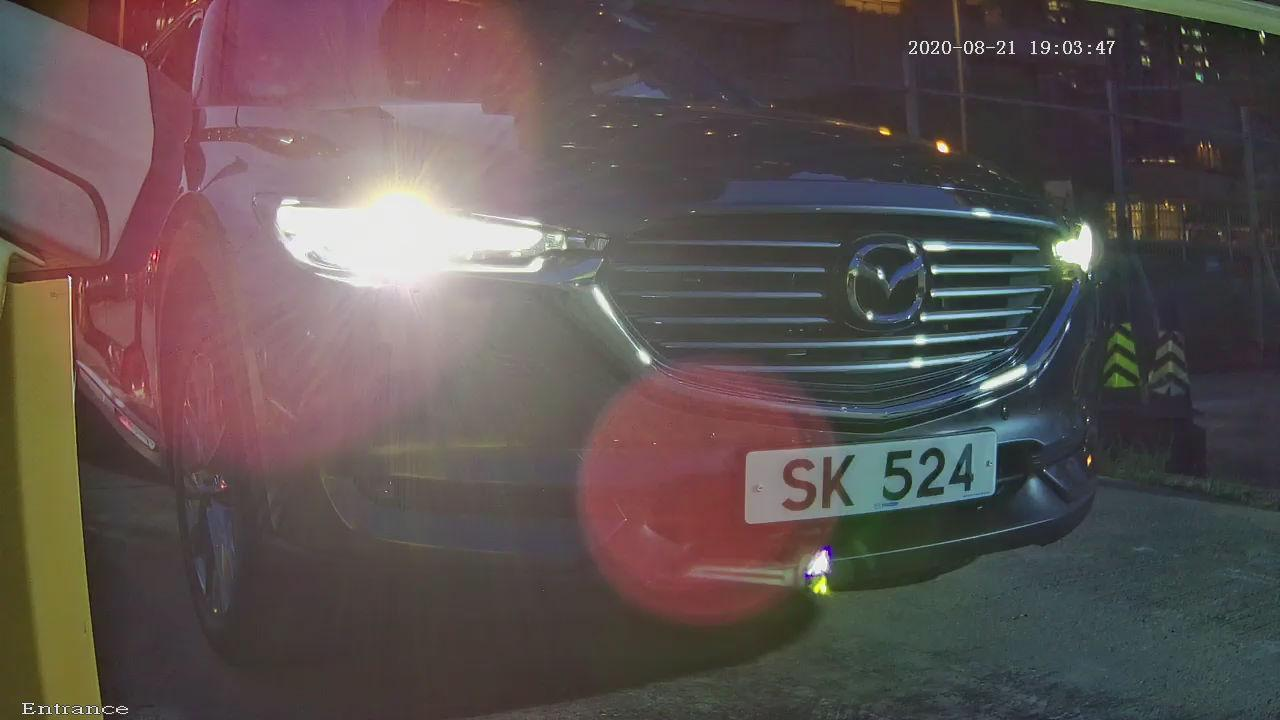Car: (29, 4, 1223, 701)
License Plate: (738, 418, 1018, 534)
